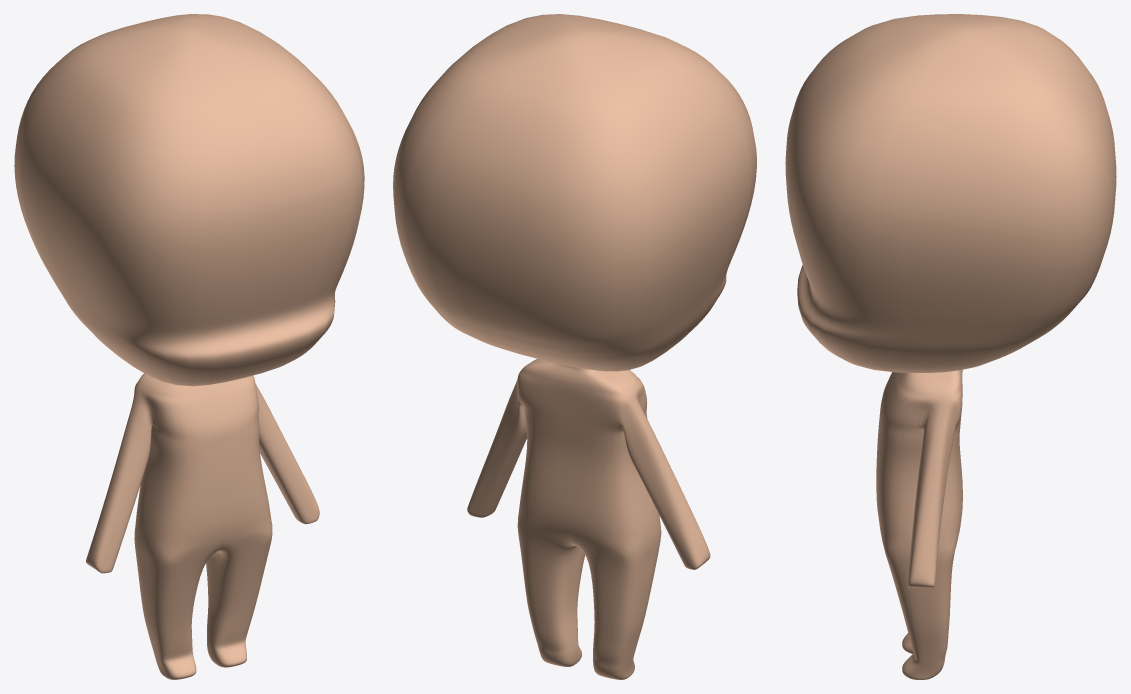
The model's file is person_blue.fbx.
3 views of the same model, side by side, from view 1: azimuth 30°, elevation 25°; view 2: azimuth 150°, elevation 25°; view 3: azimuth 270°, elevation 25° (orthographic). The views are drawn at different scales.
Visible parts, largest first — view 1: body.001; view 2: body.001; view 3: body.001.
Part boxes in pixels (x1=…): body.001: x1=14, y1=14, x2=364, y2=679; body.001: x1=393, y1=14, x2=756, y2=679; body.001: x1=785, y1=14, x2=1116, y2=679.
Bounding box in the file's own units: 43.6 × 96.89 × 45.94.
